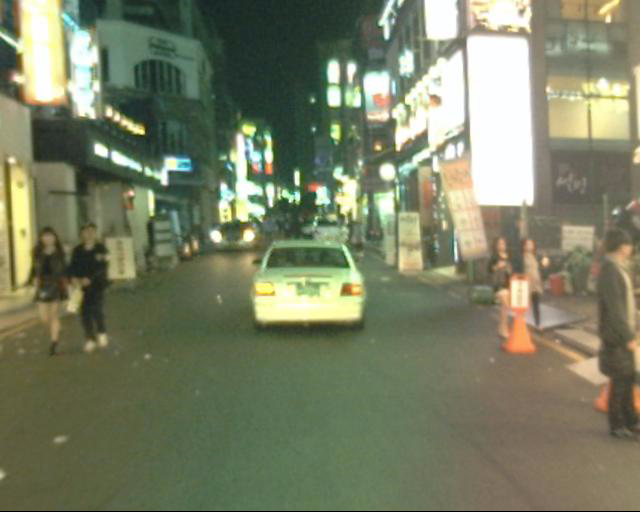person: (590, 233, 638, 445), (63, 220, 118, 359), (24, 228, 73, 363), (519, 242, 551, 344), (487, 239, 517, 346), (259, 218, 298, 250), (348, 219, 373, 264)
